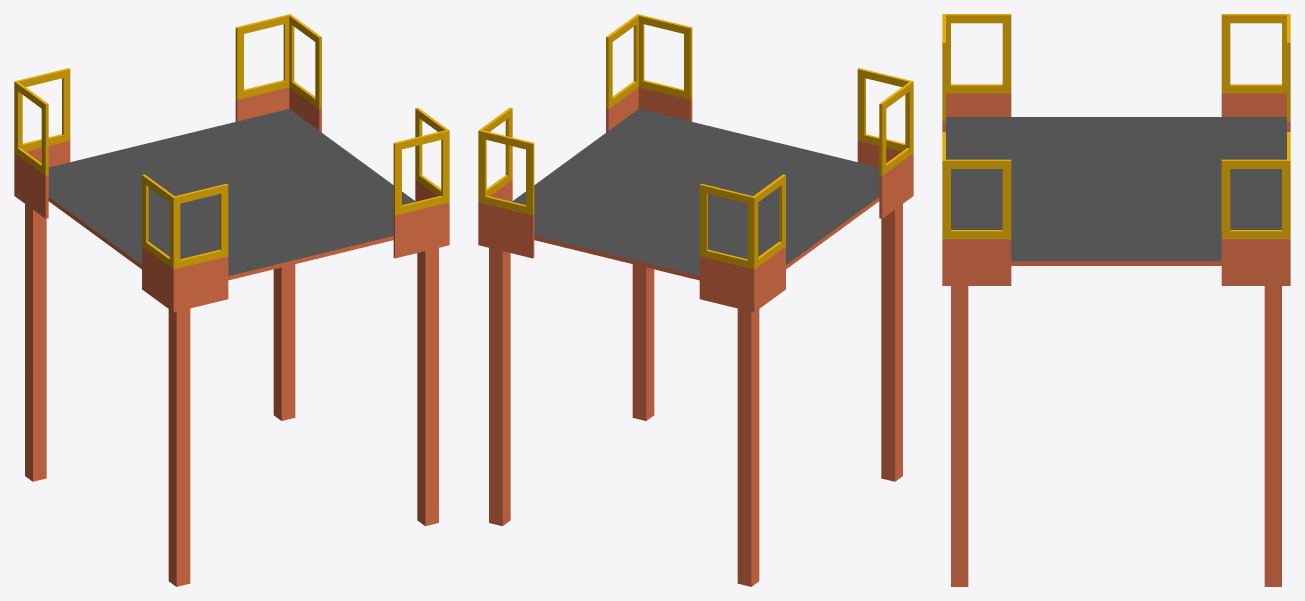
The model's file is Prop_Industrial_Platform_Walkway_Wide_Intersection_02.FBX.
3 renders of one model, left to right at view 1: azimuth 30°, elevation 25°; view 2: azimuth 150°, elevation 25°; view 3: azimuth 270°, elevation 25°, orthographic. The views are drawn at different scales.
Parts seen in each view (by area): view 1: Prop_Industrial_Platform_Walkway_Wide_Intersection_02; view 2: Prop_Industrial_Platform_Walkway_Wide_Intersection_02; view 3: Prop_Industrial_Platform_Walkway_Wide_Intersection_02.
Boxes of the visible parts, x1,y1,x2,y2 form: Prop_Industrial_Platform_Walkway_Wide_Intersection_02: (14, 14, 449, 586); Prop_Industrial_Platform_Walkway_Wide_Intersection_02: (478, 14, 913, 586); Prop_Industrial_Platform_Walkway_Wide_Intersection_02: (942, 14, 1290, 586).
Size of the model in its own units: 4040 by 5500 by 4040.
